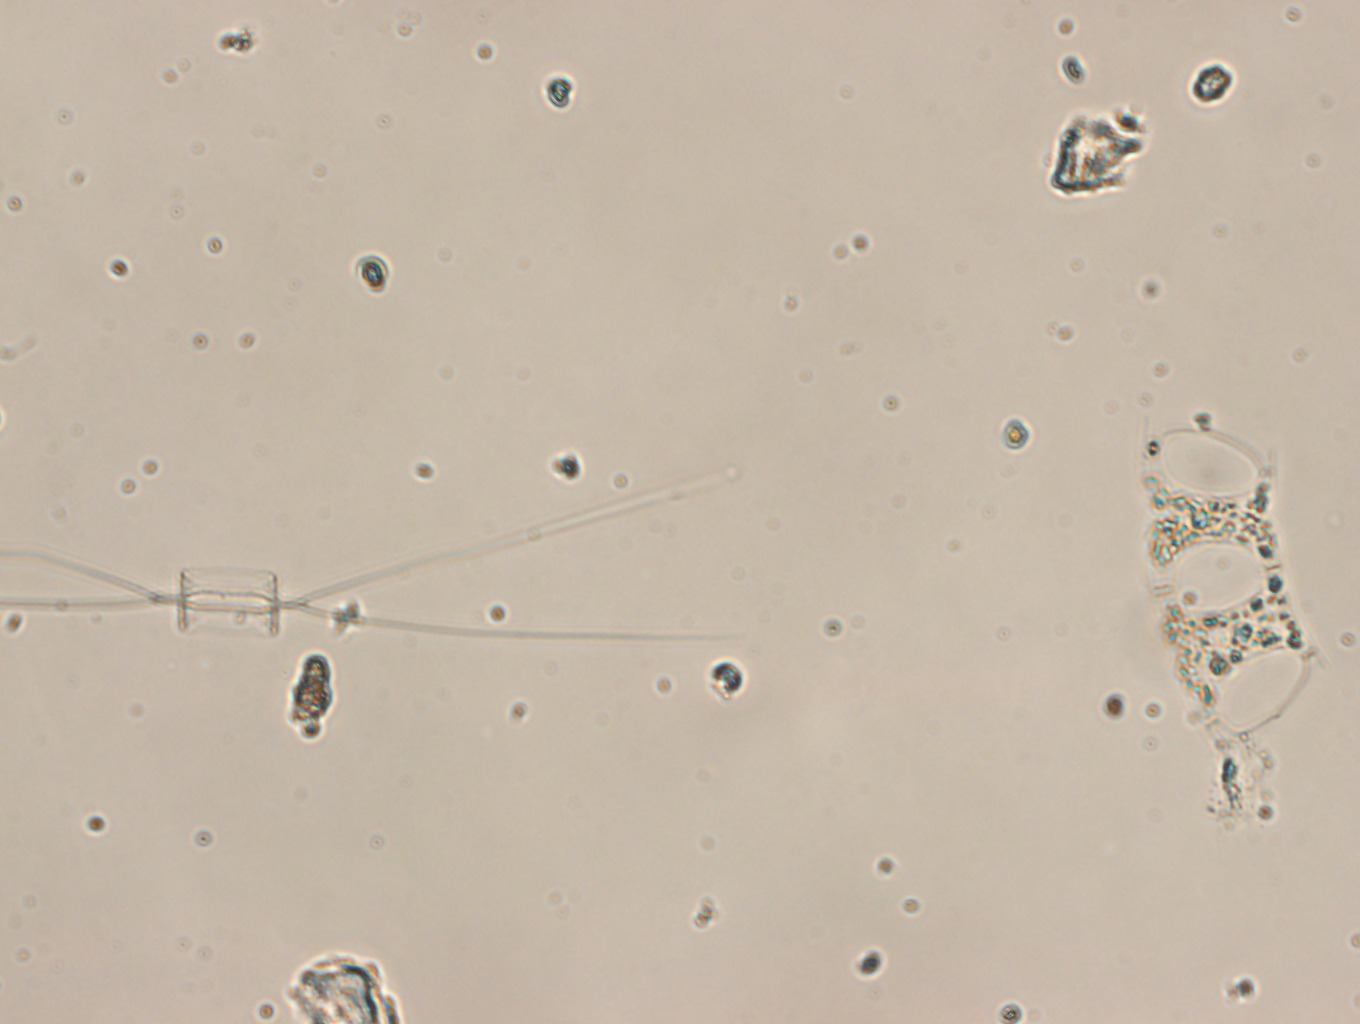chaetoceros: (1, 474, 732, 642)
eucampia: (1141, 392, 1330, 763)
